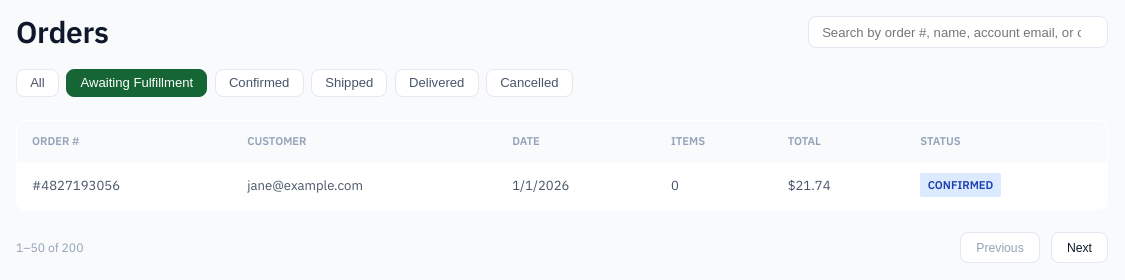
Test: AdminOrdersPage › leaves a way back when a page fails to load
Expected: the text "$21.74" is shown, [773, 162, 905, 209]
Click the button "Next".
click(1080, 248)  # box [1051, 232, 1108, 263]
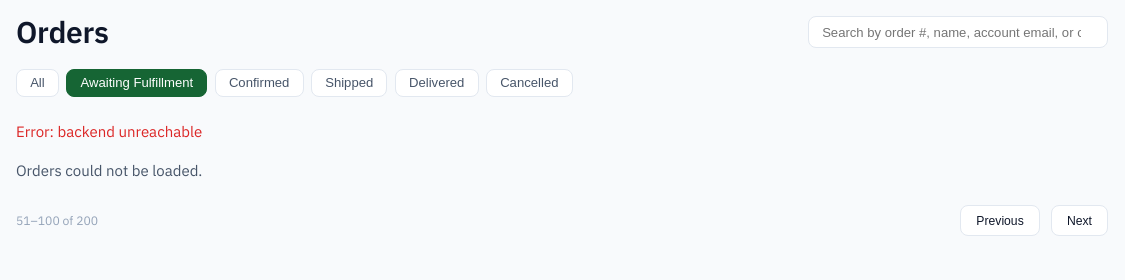
Expected: the text "Error: backend unreachable" is shown, [16, 122, 202, 140]
Expected: the button "Previous" is enabled, [960, 205, 1040, 236]
